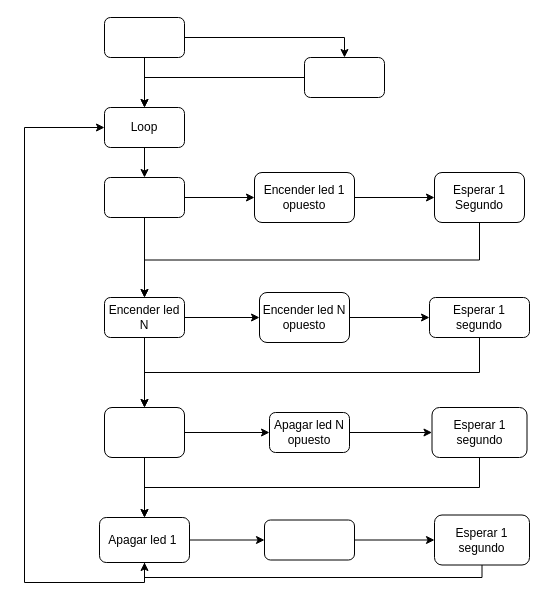
The diagram is 547 pixels wide and 608 high, and some of its shapes have lost their labels. Each missing label, with the centre of its shape:
"Apagar led 1 opuesto" goes at pixel 309 539.
"Apagar led N" goes at pixel 144 432.
"Definir los 12 pines" goes at pixel 344 77.
"Encender led 1" goes at pixel 144 197.
"Setup" goes at pixel 144 37.
